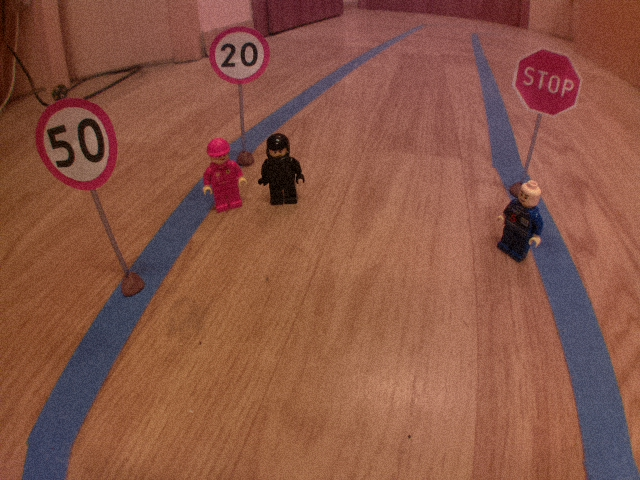LEGO_person: (494, 178, 546, 271), (199, 136, 251, 213)
ogr_20: (206, 24, 272, 87)
ogr_50: (33, 95, 121, 194)
stop: (509, 44, 586, 122)
